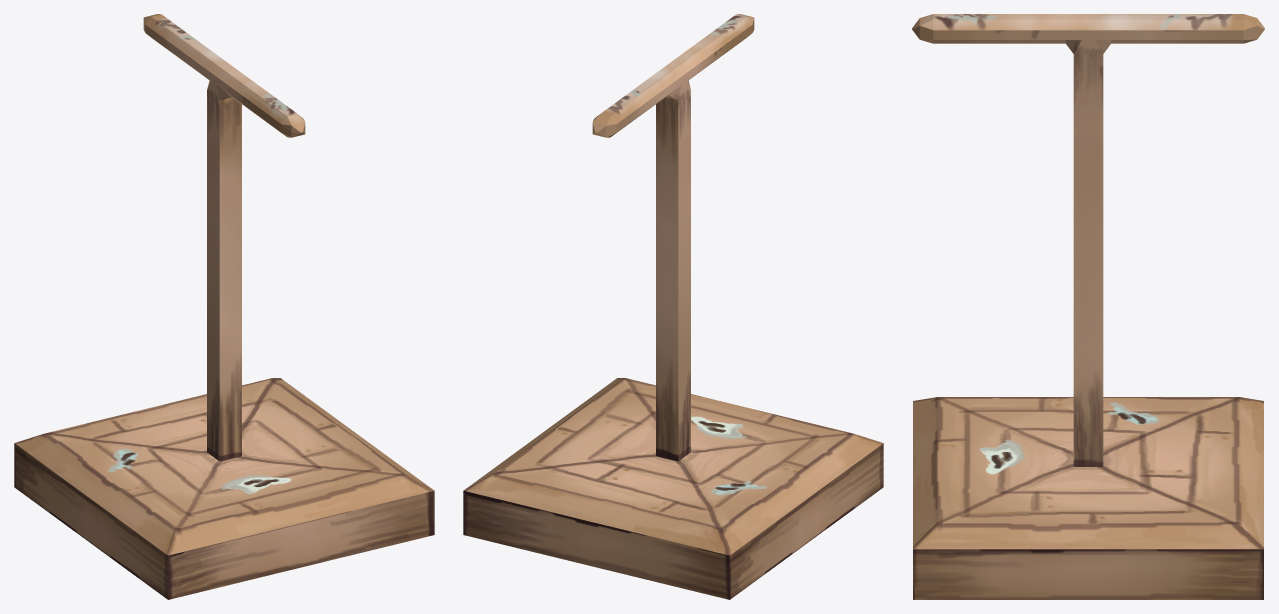
The model's file is birdpole.fbx.
3 renders of one model, left to right at view 1: azimuth 30°, elevation 25°; view 2: azimuth 150°, elevation 25°; view 3: azimuth 270°, elevation 25°, orthographic. The views are drawn at different scales.
Visible parts, largest first — view 1: bird pole; view 2: bird pole; view 3: bird pole.
Part boxes in pixels (bbox=[...]): bird pole: bbox=[14, 14, 434, 599]; bird pole: bbox=[463, 14, 883, 599]; bird pole: bbox=[912, 14, 1264, 599].
Size of the model in its own units: 200 by 320 by 201.
Materials: 1 (1 with a texture image).
